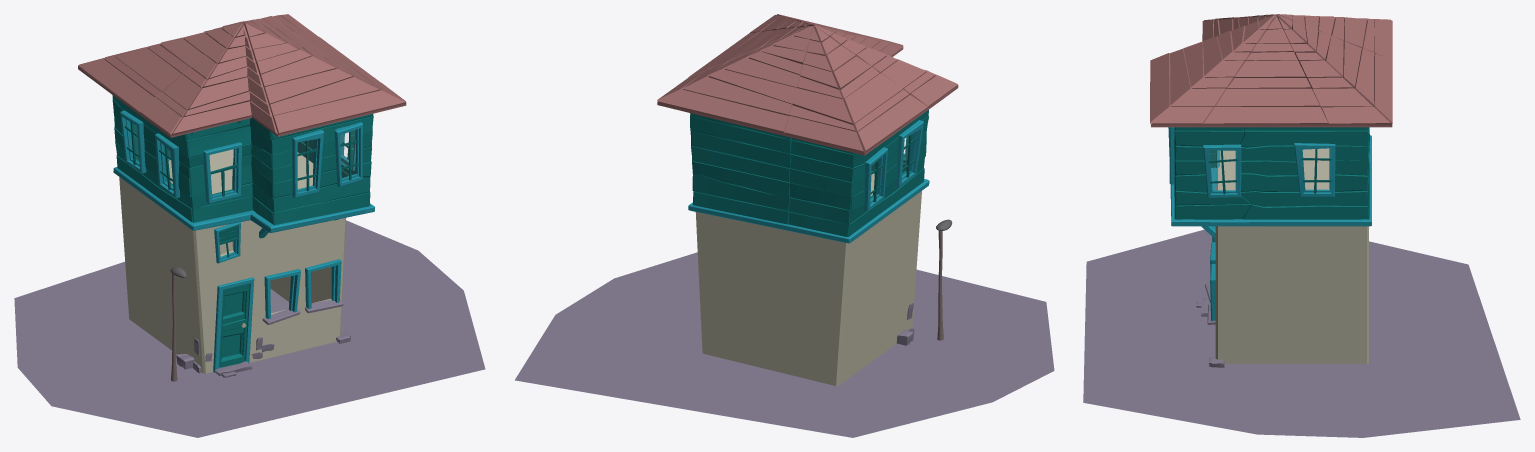
The picture shows the model from 3 angles, left to right: view 1: azimuth 30°, elevation 25°; view 2: azimuth 150°, elevation 25°; view 3: azimuth 270°, elevation 25°; orthographic projection.
Visible parts, largest first — view 1: pPlane1, cati, altkat, ustkat, katkemeri, polySurface53, pPipe19, pPipe25, kapi_cerceve, pPipe26, pPipe20, pPipe27 (+4 smaller); view 2: pPlane1, altkat, cati, ustkat, katkemeri, pPipe26, pPipe27; view 3: pPlane1, cati, altkat, ustkat, katkemeri, pPipe28, pPipe29.
Boxes of the visible parts, x1=… form: pPlane1: x1=14, y1=220, x2=485, y2=437; cati: x1=78, y1=14, x2=406, y2=137; altkat: x1=119, y1=149, x2=346, y2=373; ustkat: x1=112, y1=95, x2=373, y2=225; katkemeri: x1=113, y1=156, x2=374, y2=232; polySurface53: x1=219, y1=283, x2=249, y2=367; pPipe19: x1=292, y1=129, x2=323, y2=197; pPipe25: x1=203, y1=142, x2=242, y2=203; kapi_cerceve: x1=213, y1=277, x2=254, y2=372; pPipe26: x1=155, y1=133, x2=180, y2=198; pPipe20: x1=334, y1=122, x2=362, y2=186; pPipe27: x1=120, y1=110, x2=146, y2=173; pPlane1: x1=515, y1=252, x2=1054, y2=437; altkat: x1=695, y1=173, x2=921, y2=385; cati: x1=657, y1=14, x2=958, y2=155; ustkat: x1=690, y1=110, x2=928, y2=237; katkemeri: x1=688, y1=171, x2=929, y2=243; pPipe26: x1=895, y1=120, x2=923, y2=187; pPipe27: x1=864, y1=147, x2=887, y2=211; pPlane1: x1=1083, y1=229, x2=1520, y2=437; cati: x1=1150, y1=14, x2=1392, y2=127; altkat: x1=1215, y1=148, x2=1368, y2=363; ustkat: x1=1174, y1=127, x2=1369, y2=219; katkemeri: x1=1170, y1=135, x2=1371, y2=226; pPipe28: x1=1294, y1=143, x2=1335, y2=196; pPipe29: x1=1203, y1=144, x2=1241, y2=197.
Bounding box in the file's own units: 93.33 × 65.06 × 80.5.
